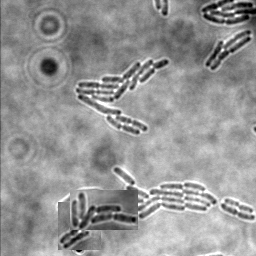Dividing: (219, 204, 255, 222), (223, 199, 253, 215)
Microcolony: (57, 167, 216, 238), (75, 59, 169, 136), (70, 190, 138, 230), (58, 202, 101, 250), (204, 30, 251, 72), (200, 1, 255, 26)
